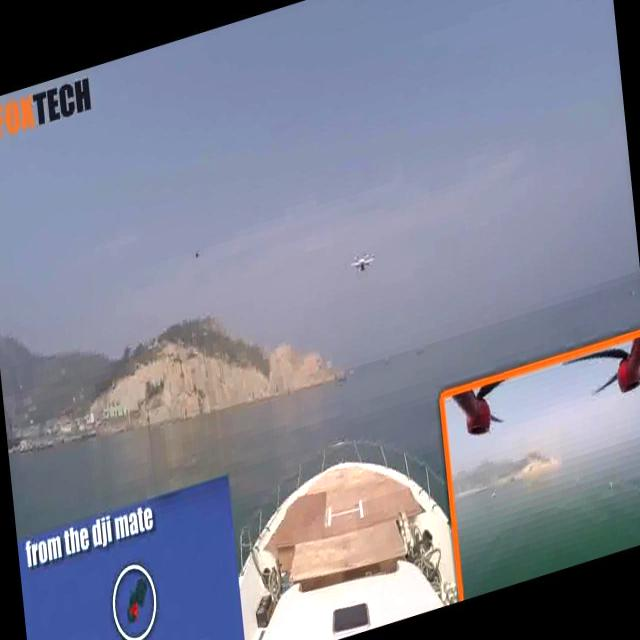drone: (336, 237, 381, 286)
